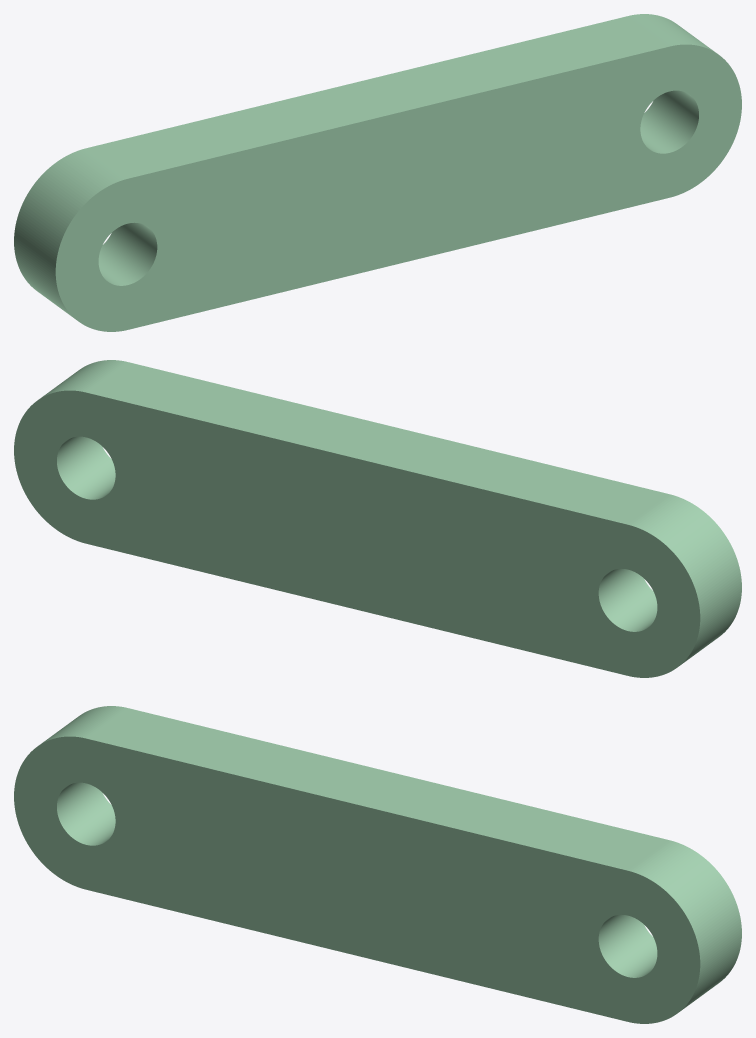
Rendered from link_bar_demo.glb.
3 renders of one model, top to bottom at view 1: azimuth 30°, elevation 25°; view 2: azimuth 150°, elevation 25°; view 3: azimuth 330°, elevation 25°, orthographic.
Parts seen in each view (by area): view 1: link_bar; view 2: link_bar; view 3: link_bar.
Part boxes in pixels (<box>): link_bar: <box>14,14,741,331</box>; link_bar: <box>14,360,741,677</box>; link_bar: <box>14,706,741,1023</box>.
Size of the model in its own units: 38 by 8 by 4.
